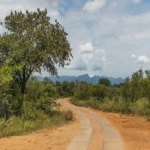Forest: (2, 11, 70, 127), (73, 78, 148, 112)
Road: (47, 89, 149, 150)
